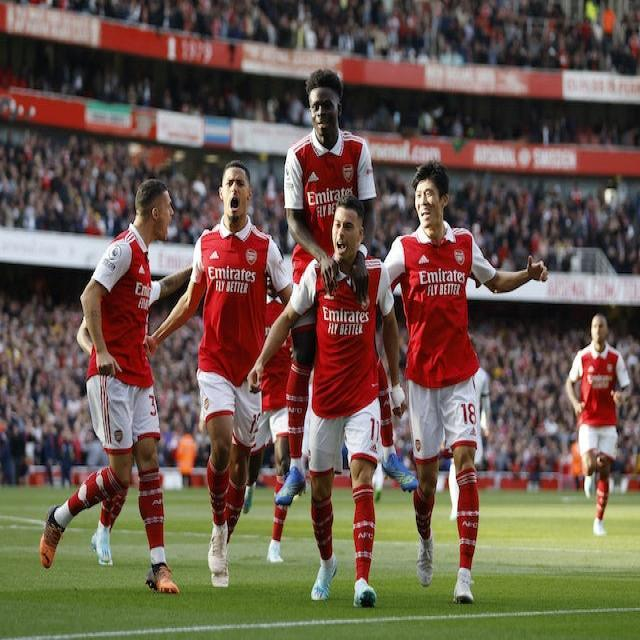Adidas: (417, 253, 430, 266), (369, 441, 378, 456), (306, 171, 318, 182), (211, 249, 221, 262), (138, 263, 146, 276), (469, 426, 476, 437)
Emirates: (322, 305, 370, 324), (419, 268, 466, 286), (307, 188, 356, 205), (207, 265, 256, 282), (134, 281, 154, 300)
